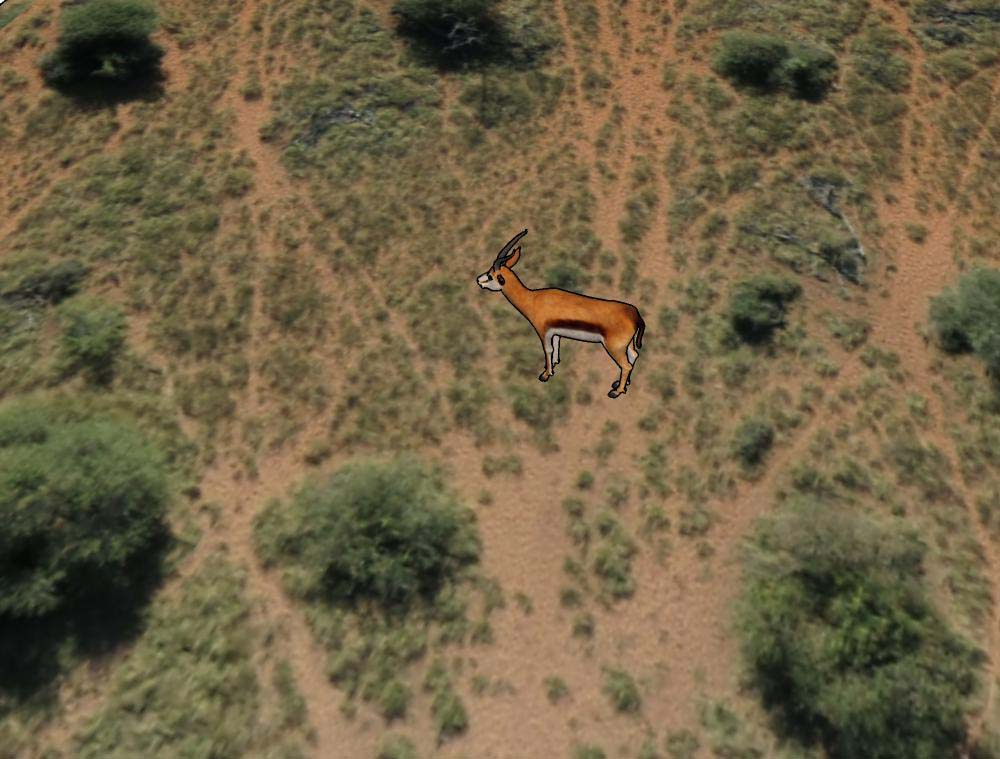springbok: (472, 228, 646, 404)
